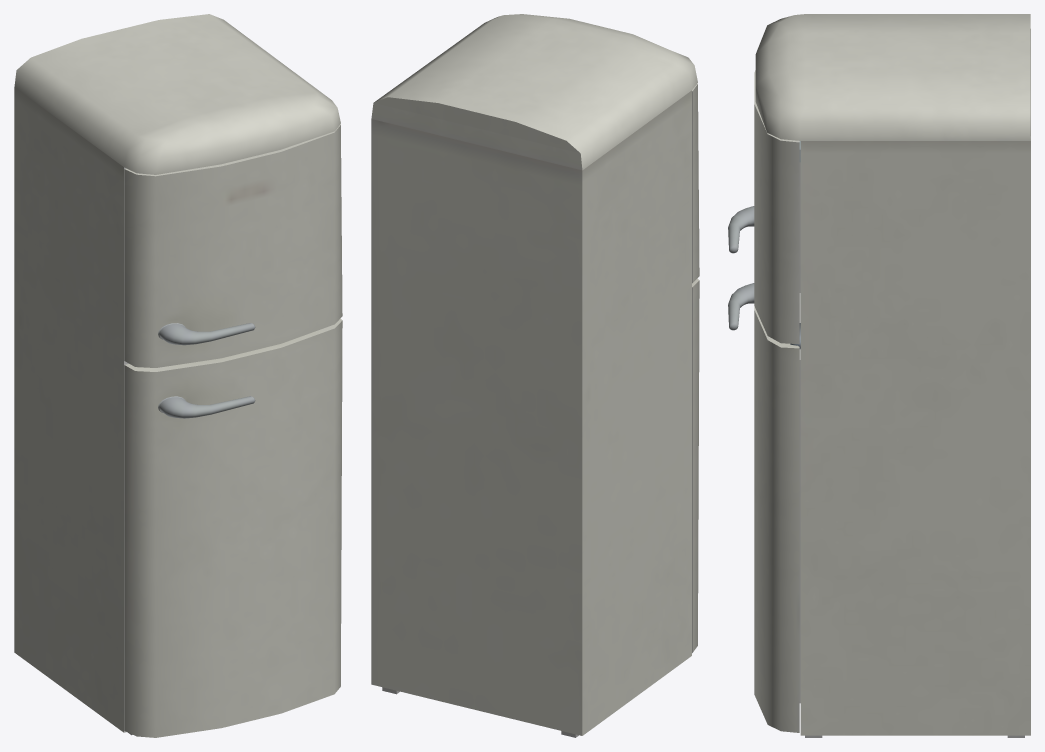
The model's file is Fridge.FBX.
3 renders of one model, left to right at view 1: azimuth 30°, elevation 25°; view 2: azimuth 150°, elevation 25°; view 3: azimuth 270°, elevation 25°, orthographic. The views are drawn at different scales.
Parts seen in each view (by area): view 1: Fridge_Doors, Fridge; view 2: Fridge, Fridge_Doors; view 3: Fridge, Fridge_Doors.
Part boxes in pixels (x1,y1,x2,y2): Fridge_Doors: (124,124,342,737); Fridge: (14,14,340,735); Fridge: (371,14,697,737); Fridge_Doors: (692,83,699,652); Fridge: (755,14,1030,737); Fridge_Doors: (728,70,800,732).
Bounding box in the file's own units: 63.44 × 173 × 74.97.
